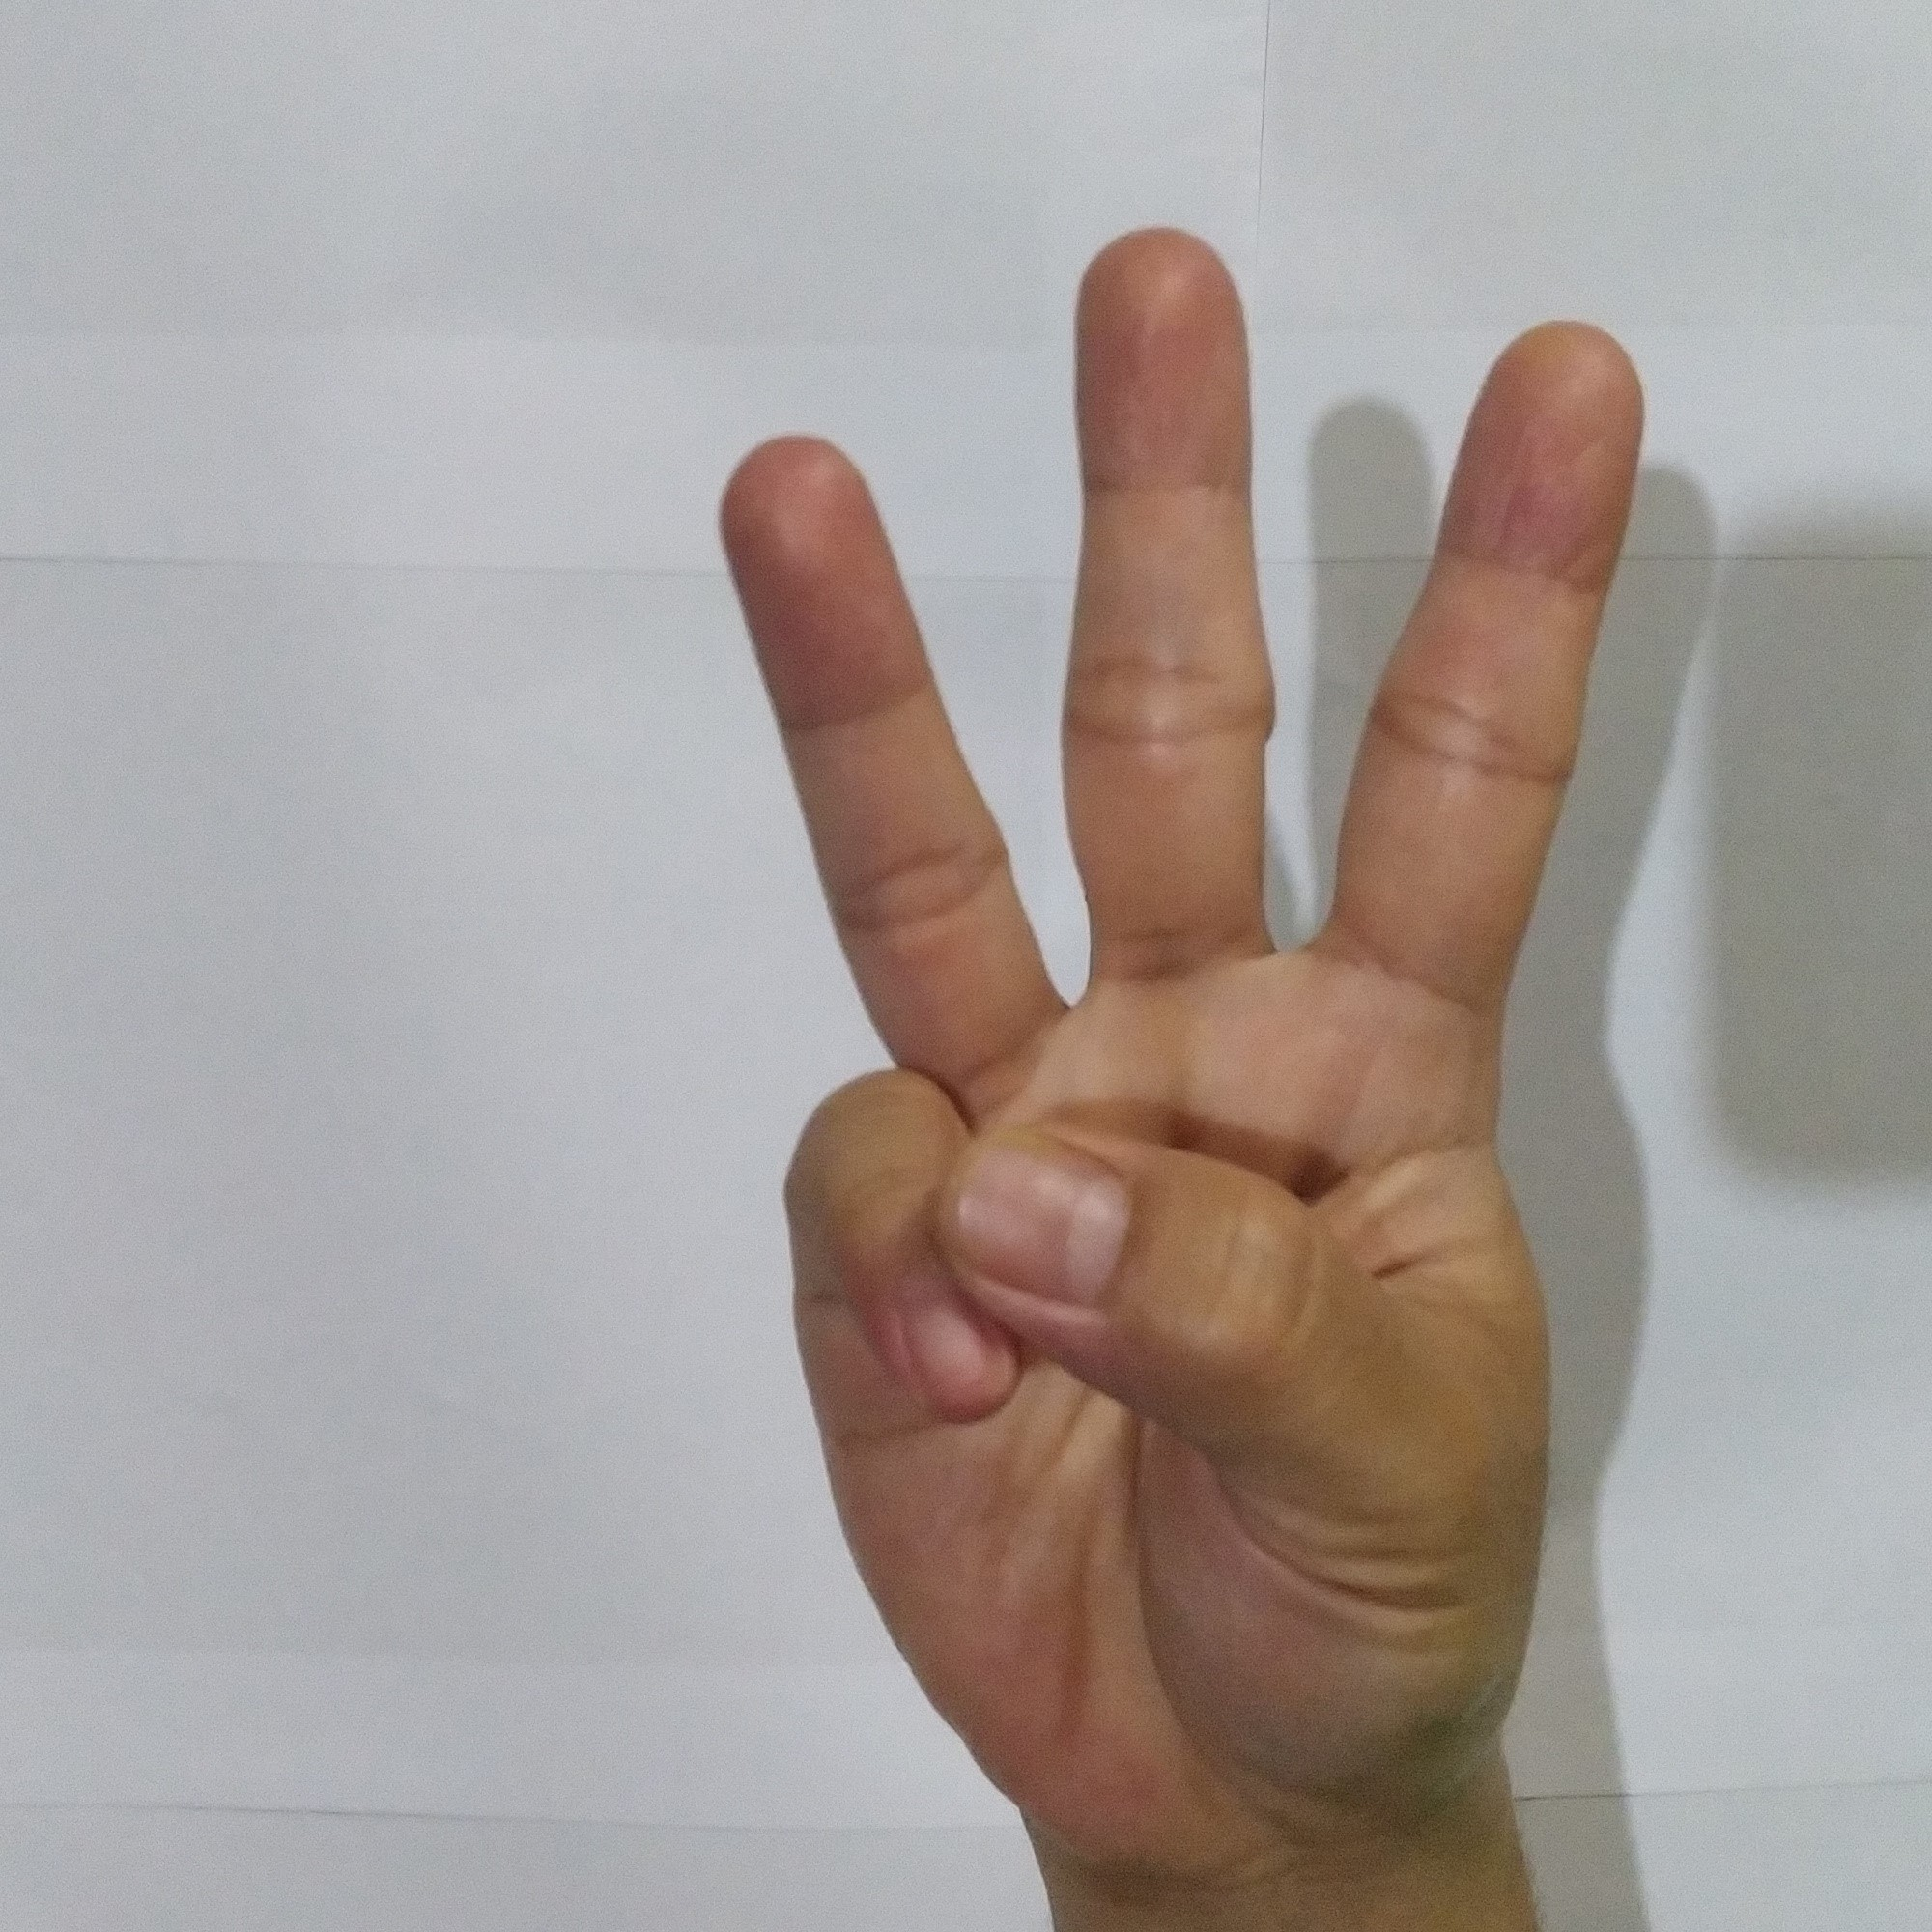W: (678, 196, 1677, 1813)
